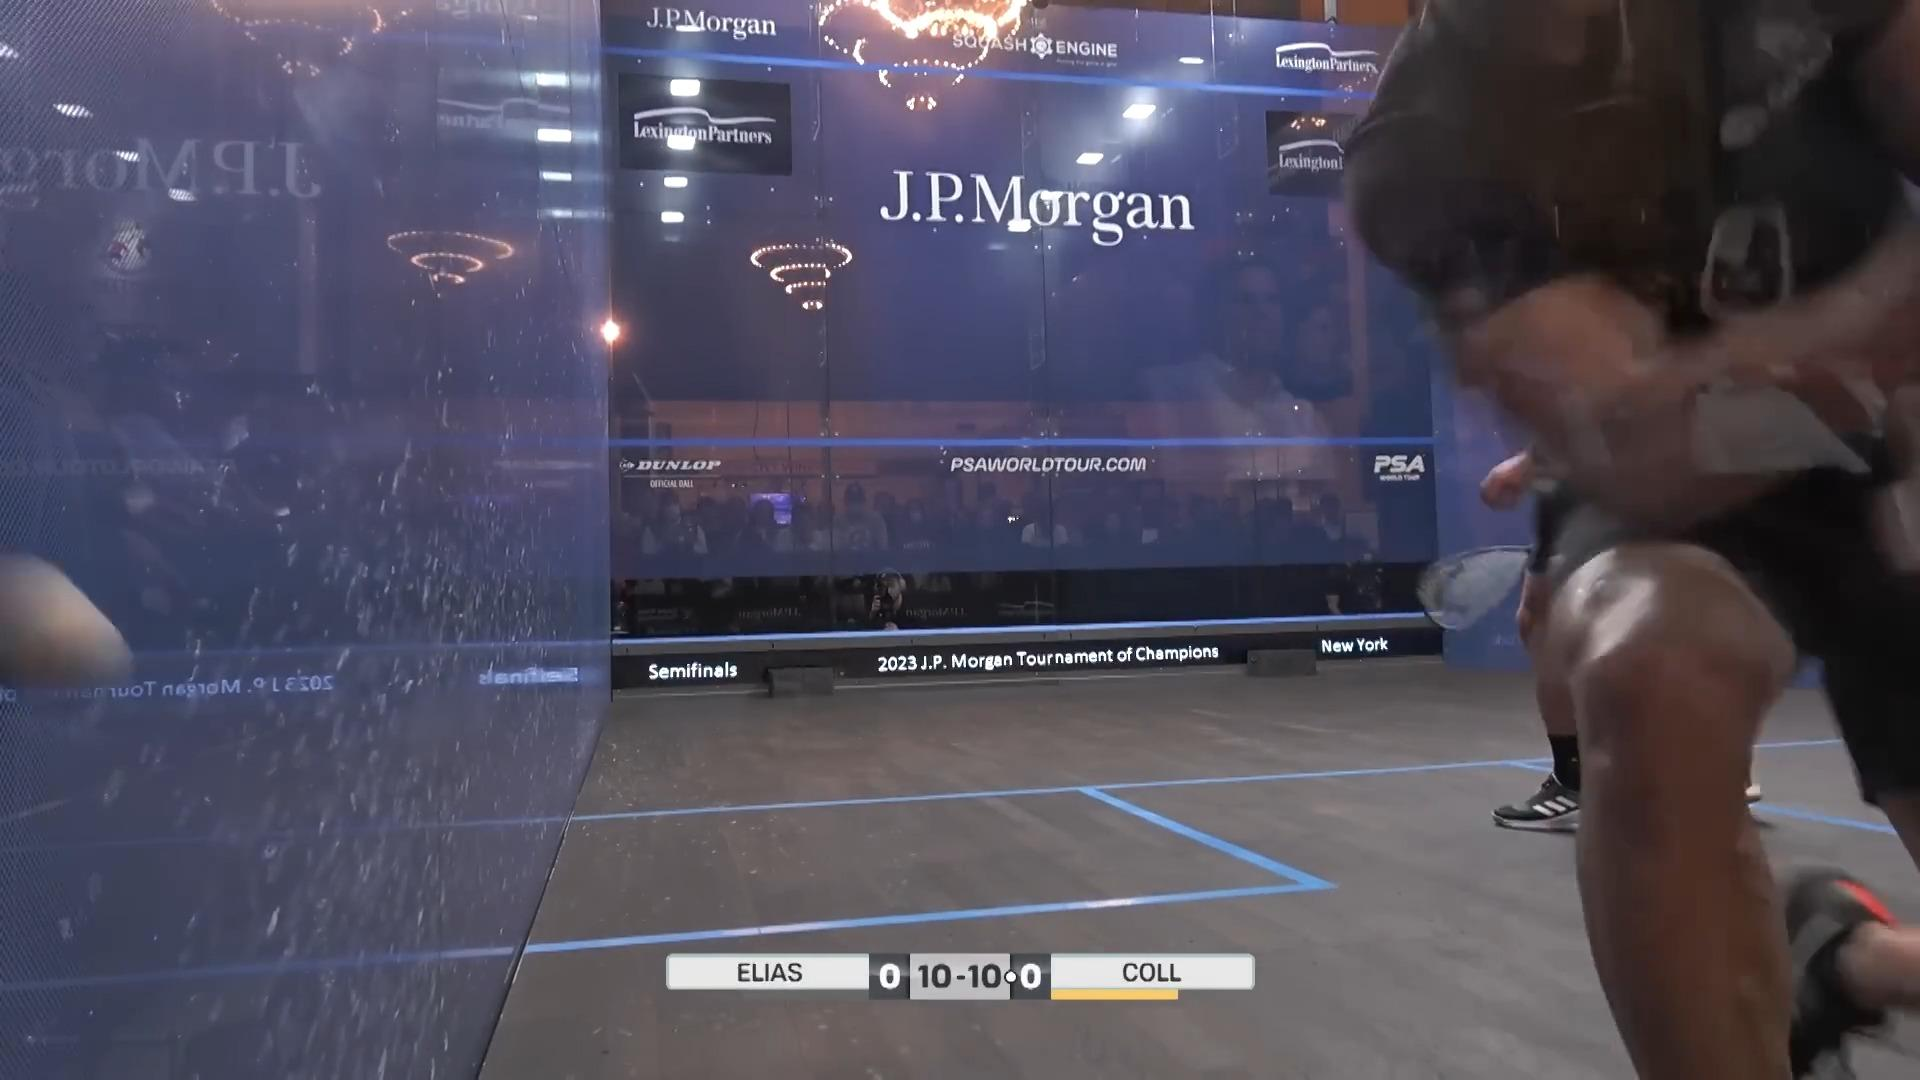Racket: (1414, 543, 1534, 632)
